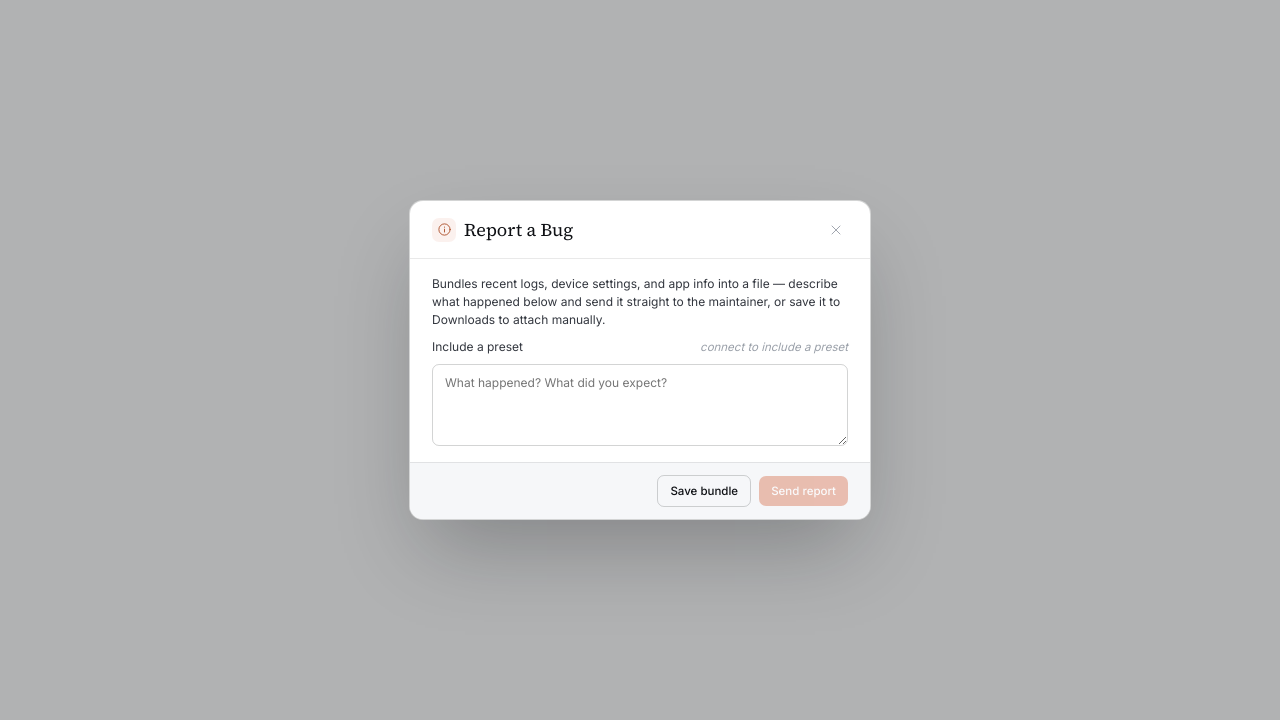
Test: BugReportDialog › falls back to a local save when sending fails
The image size is (1280, 720).
Type "The level meter froze." into the text box with placeholder "What happened? What did you expect?" at (640, 405), box [432,364,848,446]
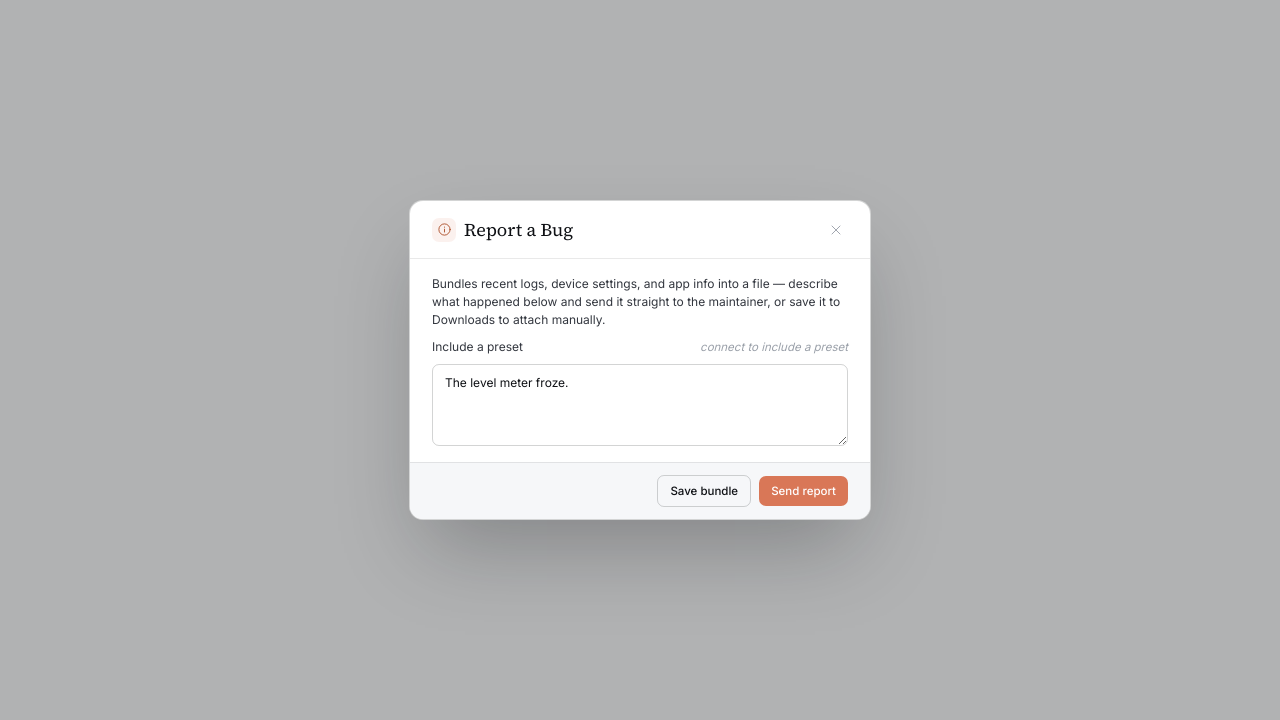
Click the button "Send report" at (804, 491), box [759,476,848,506]
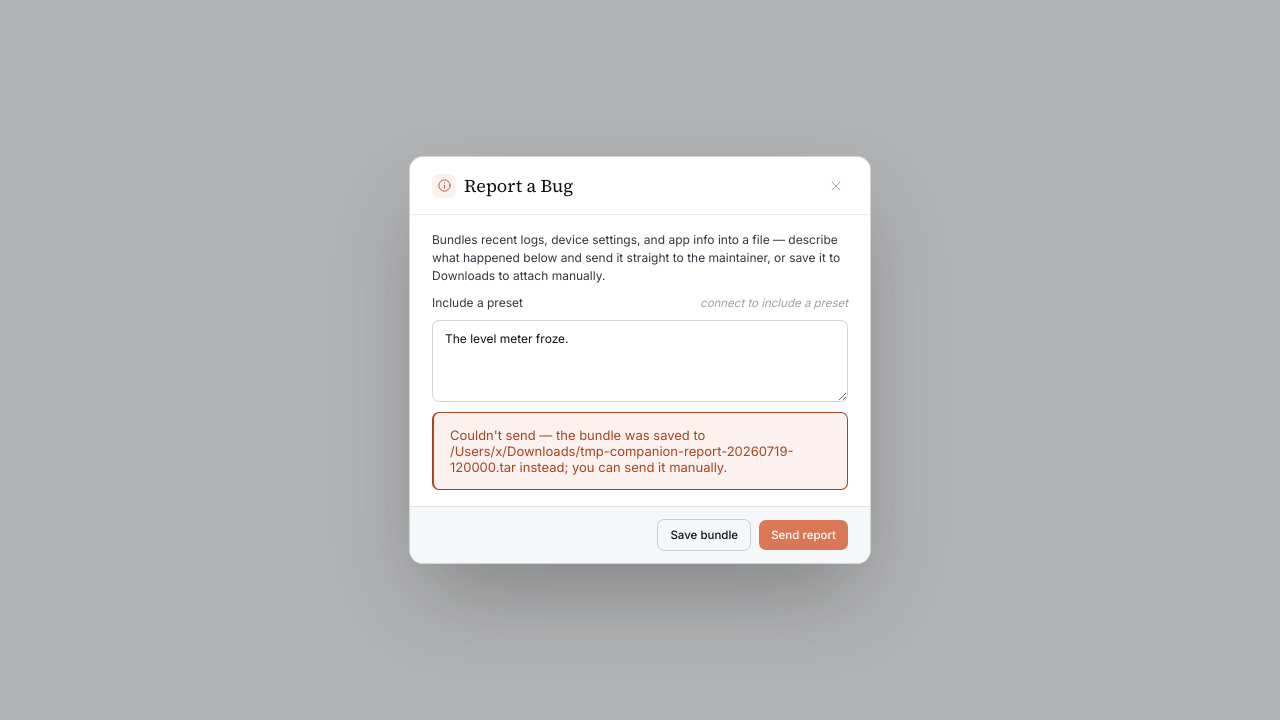
expect the message shows "couldn.t send": met, box [450,427,705,443]
expect the message shows "/Users/x/Downloads/tmp-companion-report-20260719-120000.tar": met, box [450,443,793,475]
